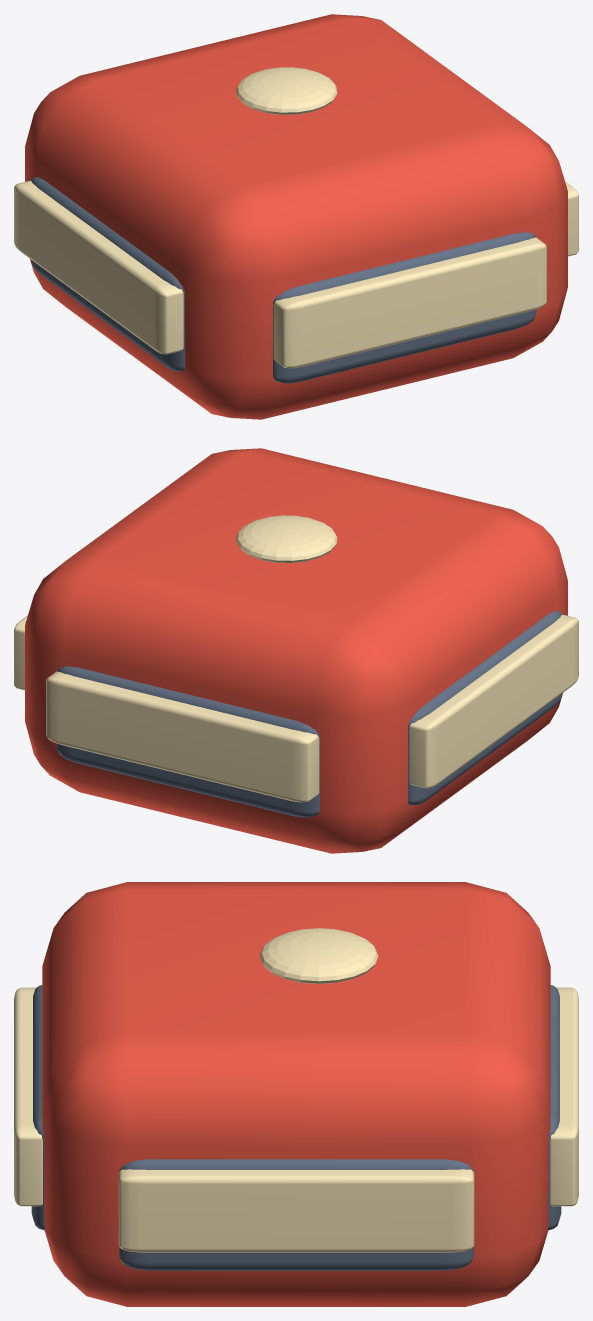
Rendered from AFJ_Final_Block_1x1.fbx.
3 views of the same model, one above another, from view 1: azimuth 30°, elevation 25°; view 2: azimuth 150°, elevation 25°; view 3: azimuth 270°, elevation 25° (orthographic). The views are drawn at different scales.
Visible parts, largest first — view 1: Block_Body, AFJ_Connector_Block_1x1_Cell_1_Link_South.001, AFJ_Connector_Block_1x1_Cell_1_Link_West.001, AFJ_Connector_Block_1x1_Cell_1_Socket_South.001, AFJ_Connector_Block_1x1_Cell_1_Socket_West.001, AFJ_Connector_Block_1x1_Cell_1_Link_East.001; view 2: Block_Body, AFJ_Connector_Block_1x1_Cell_1_Link_North.001, AFJ_Connector_Block_1x1_Cell_1_Link_West.001, AFJ_Connector_Block_1x1_Cell_1_Socket_North.001, AFJ_Connector_Block_1x1_Cell_1_Socket_West.001, AFJ_Connector_Block_1x1_Cell_1_Link_East.001; view 3: Block_Body, AFJ_Connector_Block_1x1_Cell_1_Link_East.001, AFJ_Connector_Block_1x1_Cell_1_Socket_East.001, AFJ_Connector_Block_1x1_Cell_1_Link_North.001, AFJ_Connector_Block_1x1_Cell_1_Link_South.001, AFJ_Connector_Block_1x1_Cell_1_Socket_North.001, AFJ_Connector_Block_1x1_Cell_1_Socket_South.001.
Part boxes in pixels (x1,y1,x2,y2): Block_Body: (25, 14, 567, 419); AFJ_Connector_Block_1x1_Cell_1_Link_South.001: (273, 237, 546, 368); AFJ_Connector_Block_1x1_Cell_1_Link_West.001: (14, 180, 183, 354); AFJ_Connector_Block_1x1_Cell_1_Socket_South.001: (273, 232, 536, 383); AFJ_Connector_Block_1x1_Cell_1_Socket_West.001: (30, 177, 184, 371); AFJ_Connector_Block_1x1_Cell_1_Link_East.001: (565, 181, 578, 256); Block_Body: (25, 448, 567, 853); AFJ_Connector_Block_1x1_Cell_1_Link_North.001: (46, 671, 319, 802); AFJ_Connector_Block_1x1_Cell_1_Link_West.001: (409, 614, 578, 788); AFJ_Connector_Block_1x1_Cell_1_Socket_North.001: (56, 666, 319, 817); AFJ_Connector_Block_1x1_Cell_1_Socket_West.001: (408, 611, 562, 805); AFJ_Connector_Block_1x1_Cell_1_Link_East.001: (14, 615, 27, 690); Block_Body: (42, 882, 550, 1306); AFJ_Connector_Block_1x1_Cell_1_Link_East.001: (118, 1169, 474, 1252); AFJ_Connector_Block_1x1_Cell_1_Socket_East.001: (119, 1159, 473, 1270); AFJ_Connector_Block_1x1_Cell_1_Link_North.001: (550, 987, 578, 1206); AFJ_Connector_Block_1x1_Cell_1_Link_South.001: (14, 987, 42, 1206); AFJ_Connector_Block_1x1_Cell_1_Socket_North.001: (547, 985, 561, 1230); AFJ_Connector_Block_1x1_Cell_1_Socket_South.001: (31, 985, 45, 1230).
Size of the model in its own units: 100 by 55.5 by 100.
